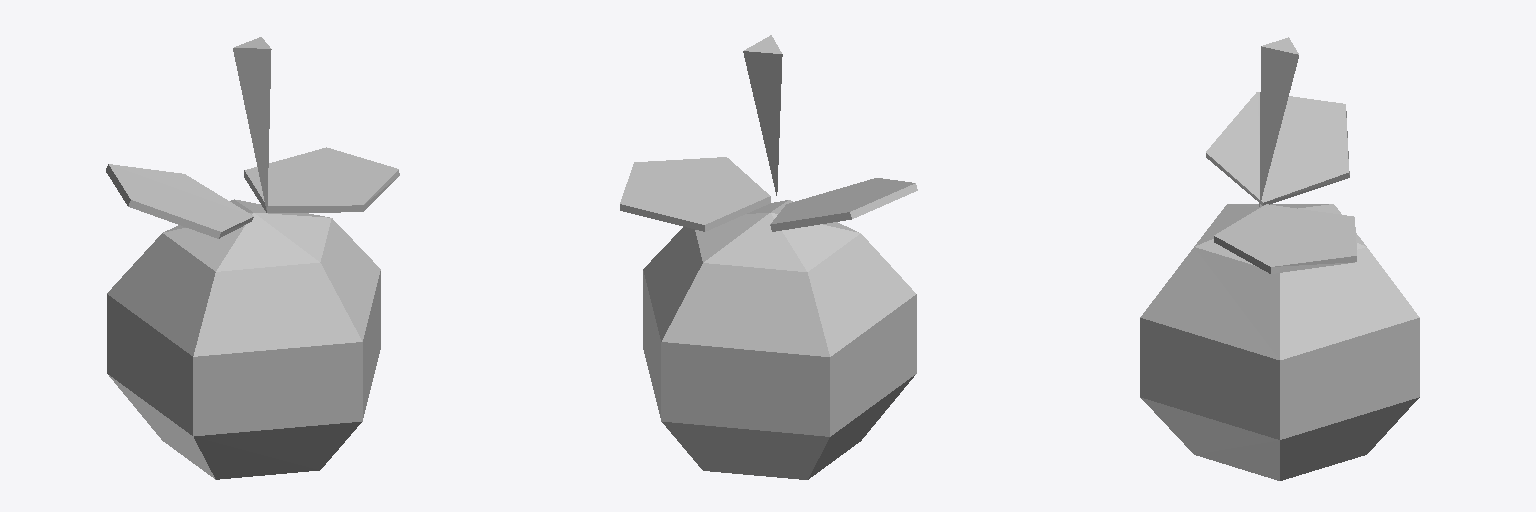
Rendered from fruit2.obj.
3 renders of one model, left to right at view 1: azimuth 30°, elevation 25°; view 2: azimuth 150°, elevation 25°; view 3: azimuth 270°, elevation 25°, orthographic.
Parts seen in each view (by area): view 1: polySurface4; view 2: polySurface4; view 3: polySurface4.
Boxes of the visible parts, <box> form: polySurface4: <box>106,37,399,479</box>; polySurface4: <box>620,35,917,479</box>; polySurface4: <box>1140,37,1419,480</box>.
Bounding box in the file's own units: 39.21 × 57.32 × 34.16.